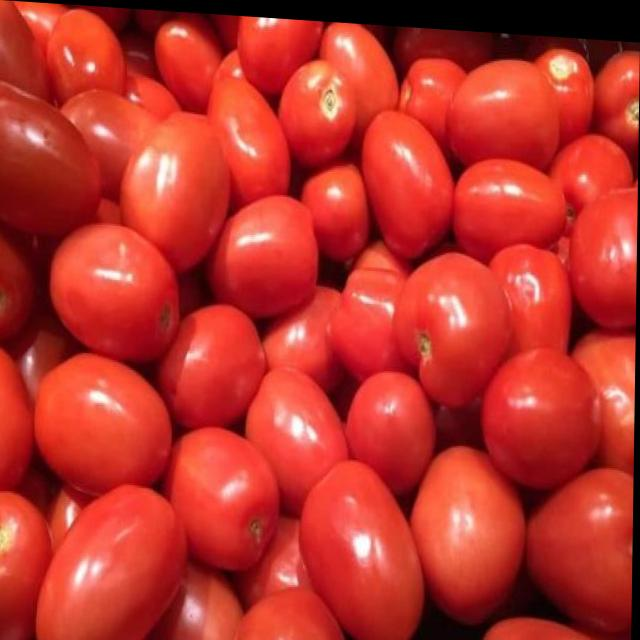kirmizi: (96, 67, 497, 500)
